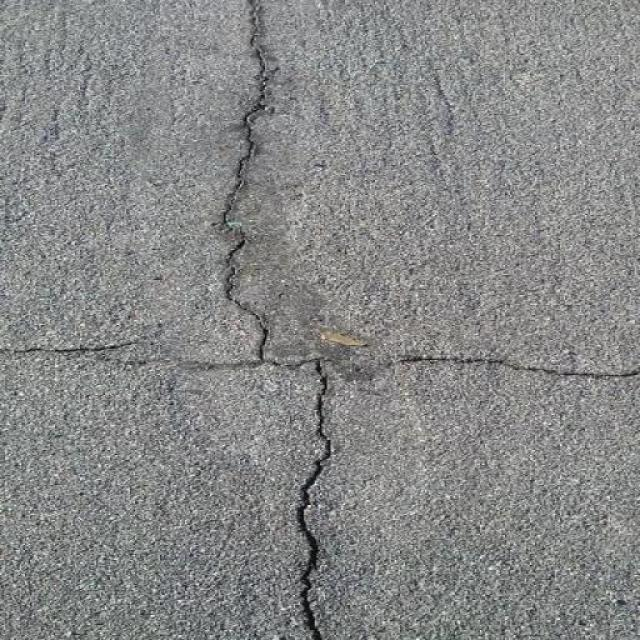Crack: (198, 0, 372, 640), (366, 338, 640, 388), (1, 321, 167, 381)
